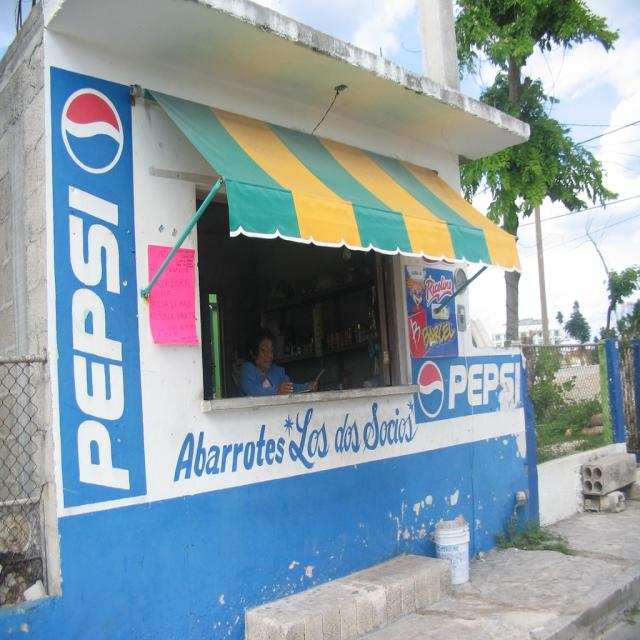pepsi: (62, 89, 126, 177), (415, 359, 446, 421)
